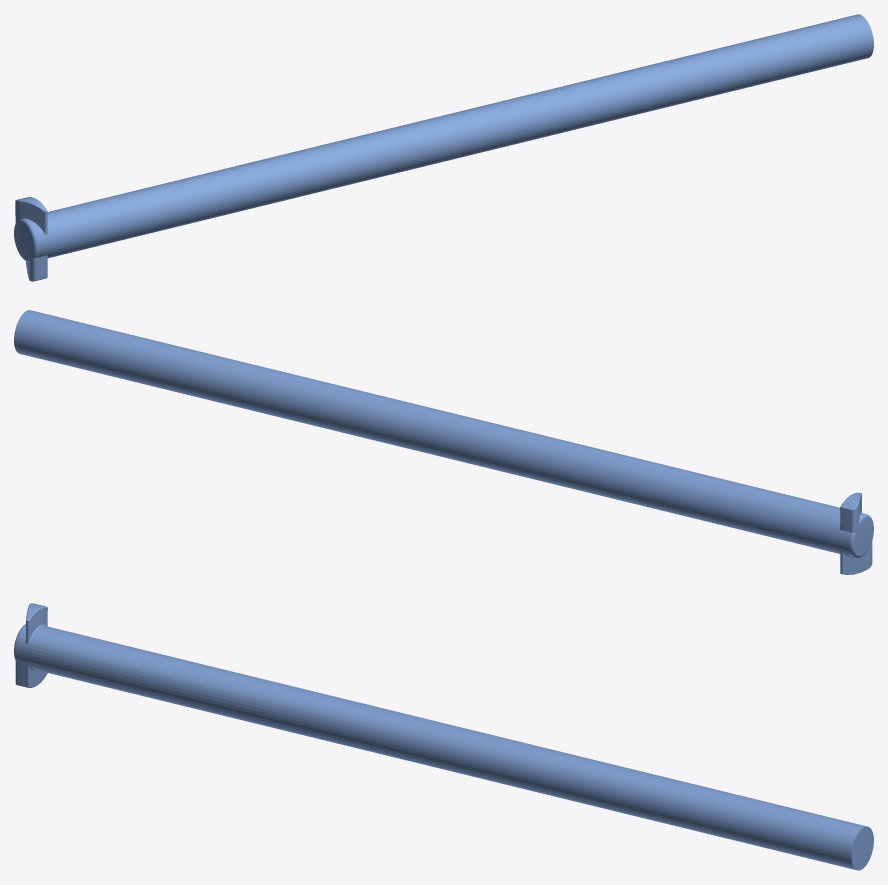
3 renders of one model, top to bottom at view 1: azimuth 30°, elevation 25°; view 2: azimuth 150°, elevation 25°; view 3: azimuth 330°, elevation 25°, orthographic.
Parts seen in each view (by area): view 1: Part 1; view 2: Part 1; view 3: Part 1.
Part boxes in pixels (x1,y1,x2,y2): Part 1: (14,14,873,281); Part 1: (14,310,873,574); Part 1: (14,603,873,870).
Bounding box in the file's own units: 1.47 × 0.127 × 0.0686.
